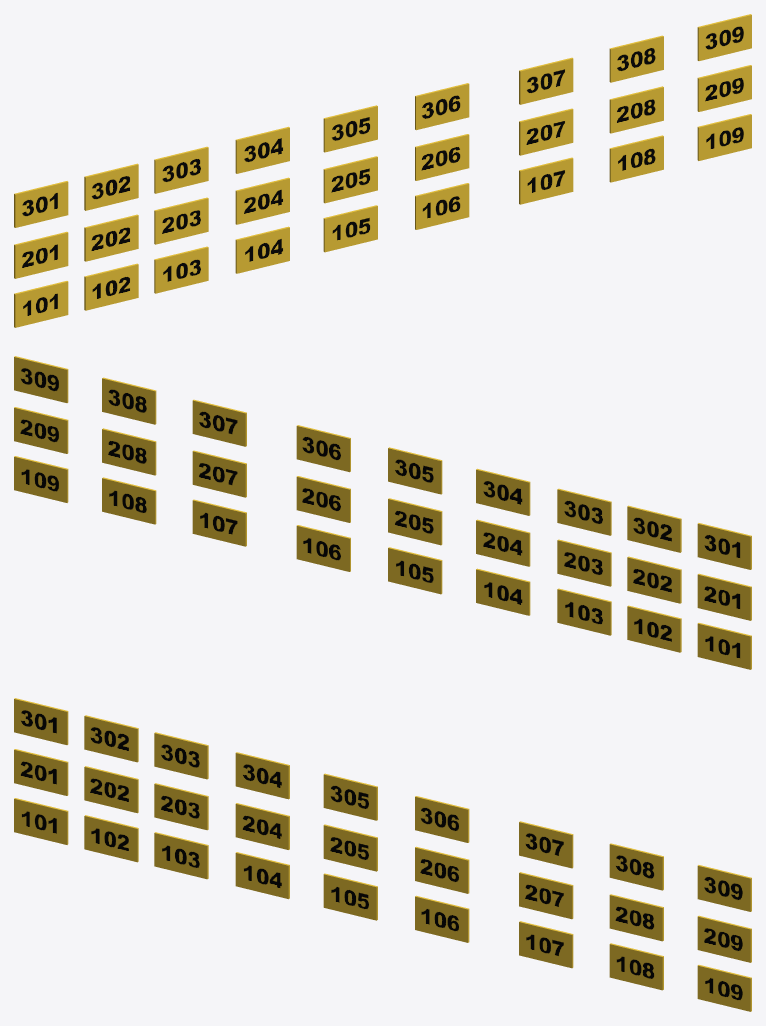
Rendered from Plaquinhas Apartamento.fbx.
3 renders of one model, top to bottom at view 1: azimuth 30°, elevation 25°; view 2: azimuth 150°, elevation 25°; view 3: azimuth 330°, elevation 25°, orthographic.
Parts seen in each view (by area): view 1: 207, 101, 107, 303, 309, 201, 205, 304, 307, 202, 203, 208 (+15 smaller); view 2: 207, 101, 107, 303, 309, 201, 205, 304, 307, 202, 203, 208 (+15 smaller); view 3: 203, 205, 208, 103, 109, 301, 307, 209, 104, 107, 202, 105 (+15 smaller).
Part boxes in pixels (x1,y1,x2,y2): 207: [519, 108, 573, 155]; 101: [14, 281, 68, 327]; 107: [519, 157, 573, 204]; 303: [154, 146, 208, 193]; 309: [697, 14, 751, 60]; 201: [14, 231, 68, 278]; 205: [323, 156, 377, 203]; 304: [235, 126, 289, 173]; 307: [519, 57, 573, 104]; 202: [84, 214, 138, 261]; 203: [154, 197, 208, 244]; 208: [609, 86, 663, 133]; 207: [192, 450, 246, 497]; 101: [697, 623, 751, 669]; 107: [192, 499, 246, 546]; 303: [557, 488, 611, 535]; 309: [14, 356, 68, 402]; 201: [697, 573, 751, 620]; 205: [388, 498, 442, 545]; 304: [476, 468, 530, 515]; 307: [192, 399, 246, 446]; 202: [627, 556, 681, 603]; 203: [557, 539, 611, 586]; 208: [102, 428, 156, 475]; 203: [154, 783, 208, 830]; 205: [323, 824, 377, 871]; 208: [609, 894, 663, 941]; 103: [154, 832, 208, 879]; 109: [697, 965, 751, 1011]; 301: [14, 698, 68, 744]; 307: [519, 821, 573, 868]; 209: [697, 915, 751, 962]; 104: [235, 852, 289, 899]; 107: [519, 921, 573, 968]; 202: [84, 766, 138, 813]; 105: [323, 873, 377, 920].
Size of the model in its own units: 692 by 120 by 2.
